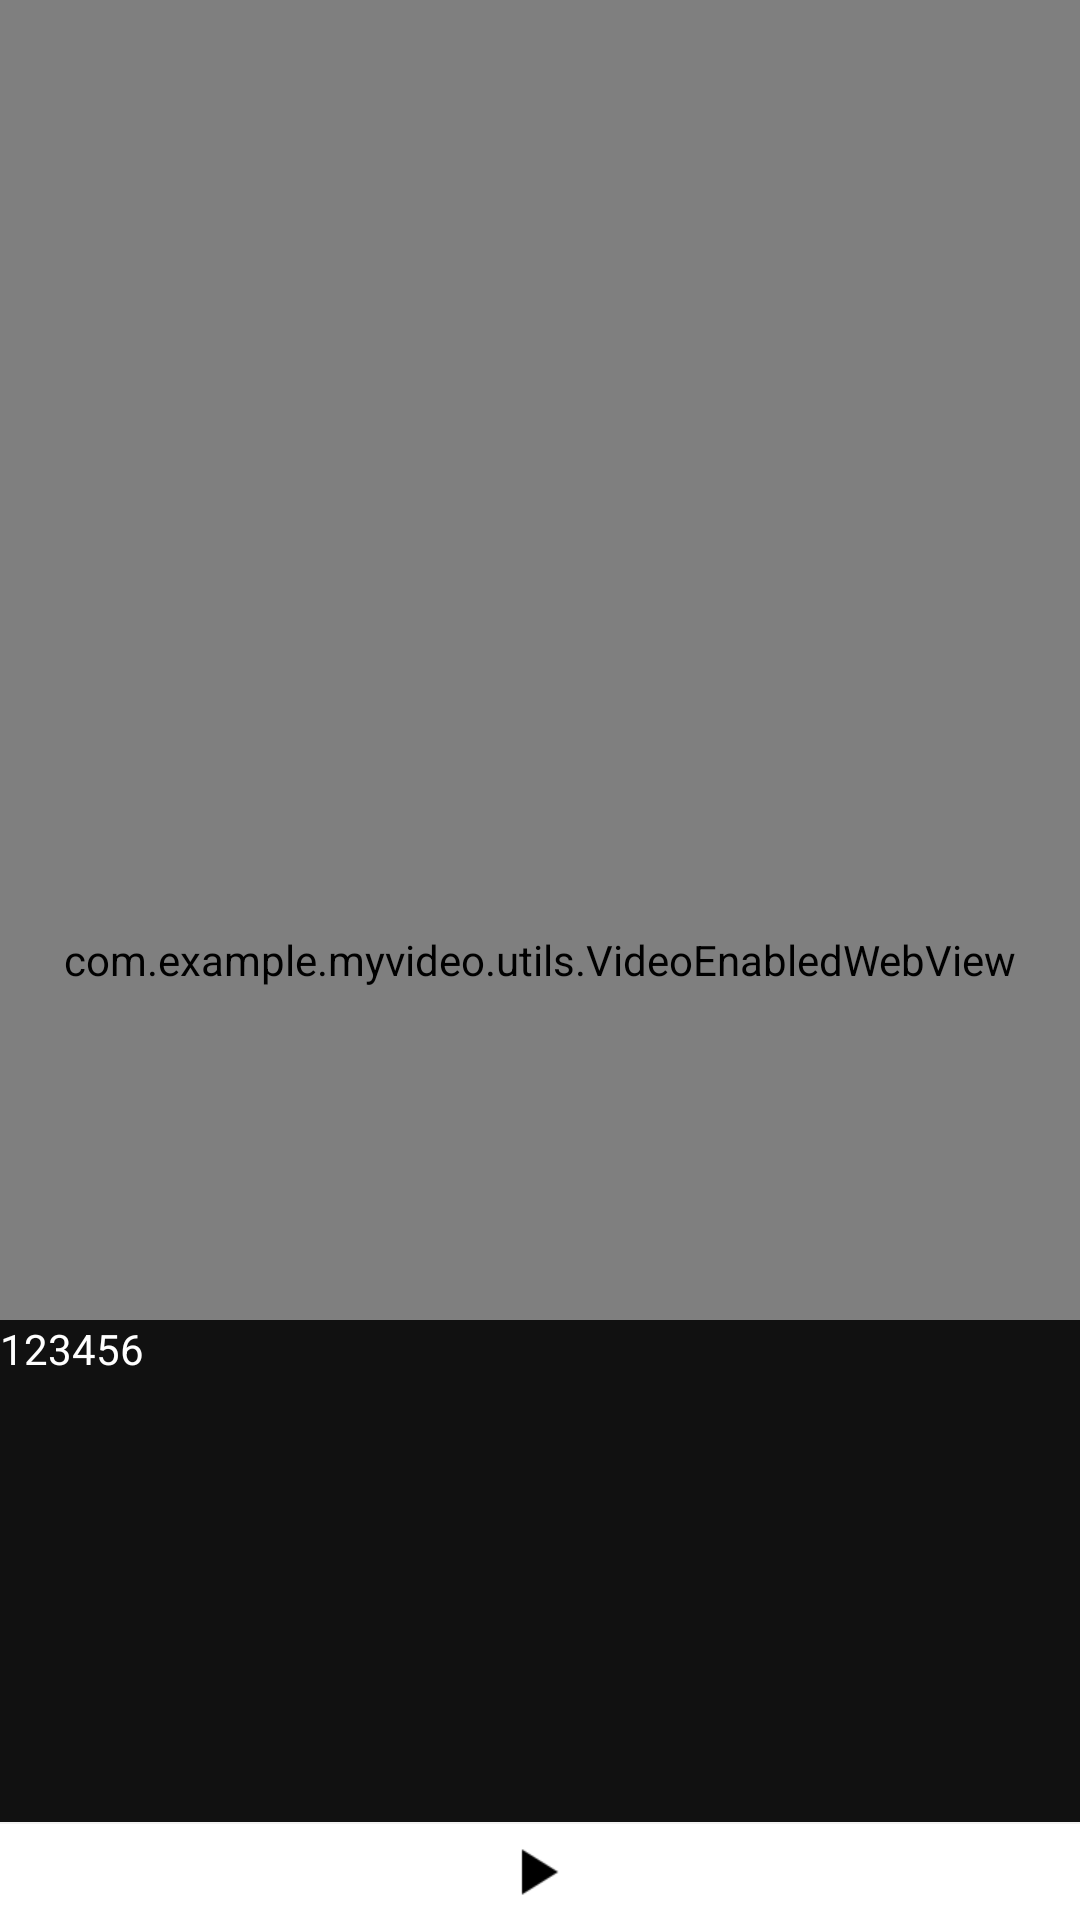

Locate icon controls on the screen. Image size 1080w x 1920h, boxes as (x1, y1, x2, y2).
play: (521, 1849, 558, 1895)
